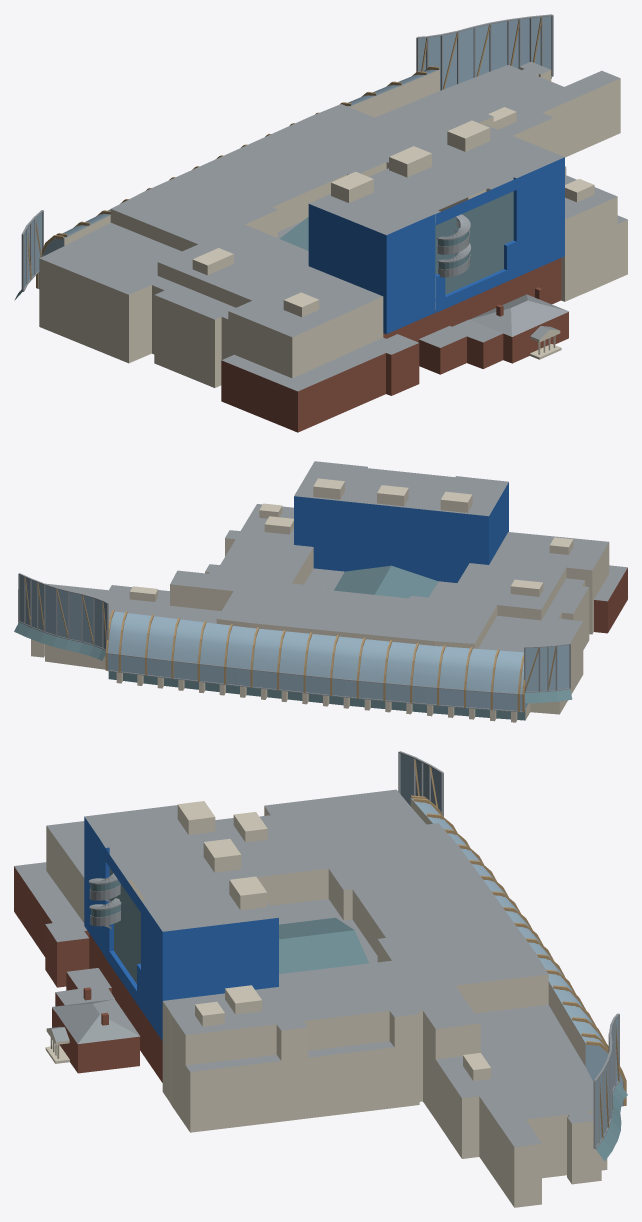
The model's file is art-gallery-of-ontario-far.glb.
The picture shows the model from 3 angles, top to bottom: view 1: azimuth 30°, elevation 25°; view 2: azimuth 150°, elevation 25°; view 3: azimuth 270°, elevation 25°; orthographic projection. The views are drawn at different scales.
Visible parts, largest first — view 1: art-gallery-of-ontario-0-metal, art-gallery-of-ontario-0-precast, art-gallery-of-ontario-0-titanium, art-gallery-of-ontario-0-brick, art-gallery-of-ontario-0-glow, art-gallery-of-ontario-0-glass, art-gallery-of-ontario-0-timber; view 2: art-gallery-of-ontario-0-metal, art-gallery-of-ontario-0-glow, art-gallery-of-ontario-0-precast, art-gallery-of-ontario-0-titanium, art-gallery-of-ontario-0-glass, art-gallery-of-ontario-0-timber, art-gallery-of-ontario-0-brick; view 3: art-gallery-of-ontario-0-metal, art-gallery-of-ontario-0-precast, art-gallery-of-ontario-0-titanium, art-gallery-of-ontario-0-brick, art-gallery-of-ontario-0-glass, art-gallery-of-ontario-0-glow, art-gallery-of-ontario-0-timber.
Part boxes in pixels (<box>): art-gallery-of-ontario-0-metal: <box>21,14,627,391</box>; art-gallery-of-ontario-0-precast: <box>39,67,627,387</box>; art-gallery-of-ontario-0-titanium: <box>308,157,564,334</box>; art-gallery-of-ontario-0-brick: <box>221,258,568,432</box>; art-gallery-of-ontario-0-glow: <box>24,16,551,288</box>; art-gallery-of-ontario-0-glass: <box>14,191,513,300</box>; art-gallery-of-ontario-0-timber: <box>28,17,541,288</box>; art-gallery-of-ontario-0-metal: <box>18,461,627,712</box>; art-gallery-of-ontario-0-glow: <box>19,575,569,710</box>; art-gallery-of-ontario-0-precast: <box>18,478,609,722</box>; art-gallery-of-ontario-0-titanium: <box>294,467,508,584</box>; art-gallery-of-ontario-0-glass: <box>14,565,572,720</box>; art-gallery-of-ontario-0-timber: <box>24,577,556,712</box>; art-gallery-of-ontario-0-brick: <box>594,568,627,633</box>; art-gallery-of-ontario-0-metal: <box>14,751,619,1148</box>; art-gallery-of-ontario-0-precast: <box>45,798,607,1207</box>; art-gallery-of-ontario-0-titanium: <box>84,817,278,1040</box>; art-gallery-of-ontario-0-brick: <box>14,866,162,1082</box>; art-gallery-of-ontario-0-glass: <box>90,868,627,1161</box>; art-gallery-of-ontario-0-glow: <box>400,754,623,1145</box>; art-gallery-of-ontario-0-timber: <box>411,758,626,1137</box>.
Bounding box in the file's own units: 180 × 41.5 × 132.
